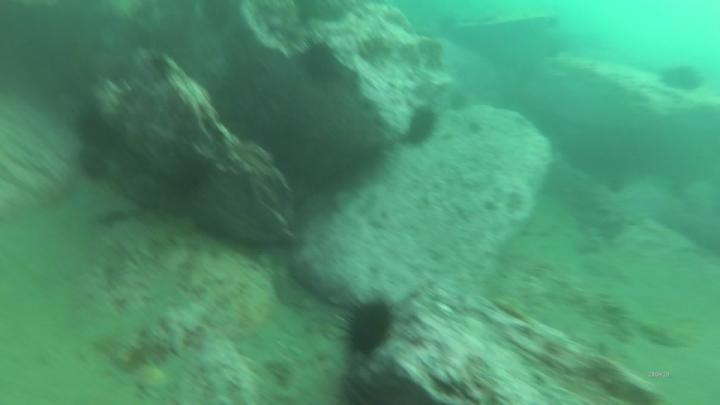echinus: (337, 290, 398, 362), (662, 60, 705, 96), (305, 40, 340, 84), (411, 102, 437, 142)
